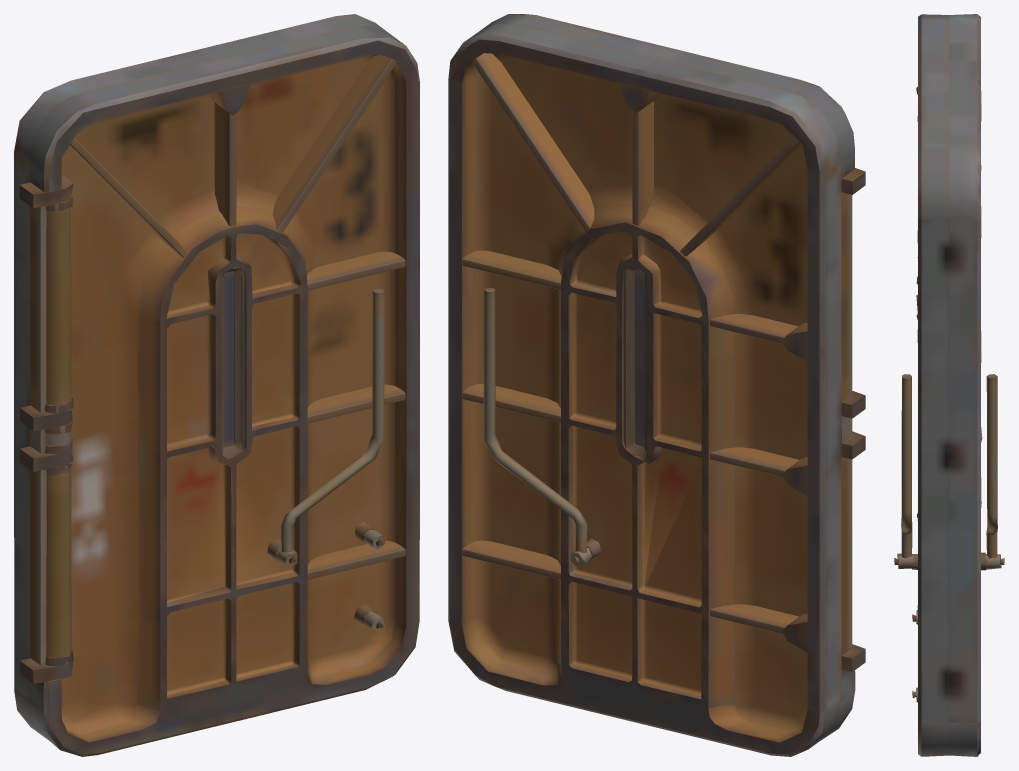
File: SM_MetalDoor01.gltf
The picture shows the model from 3 angles, left to right: view 1: azimuth 30°, elevation 25°; view 2: azimuth 150°, elevation 25°; view 3: azimuth 270°, elevation 25°; orthographic projection. The views are drawn at different scales.
Parts seen in each view (by area): view 1: SM_MetalDoor01; view 2: SM_MetalDoor01; view 3: SM_MetalDoor01.
Part boxes in pixels (x1,y1,x2,y2): SM_MetalDoor01: (14, 14, 419, 756); SM_MetalDoor01: (448, 14, 865, 756); SM_MetalDoor01: (894, 14, 1004, 756).
Bounding box in the file's own units: 1.79 × 2.89 × 0.4744.
Materials: 1 (1 with a texture image).
